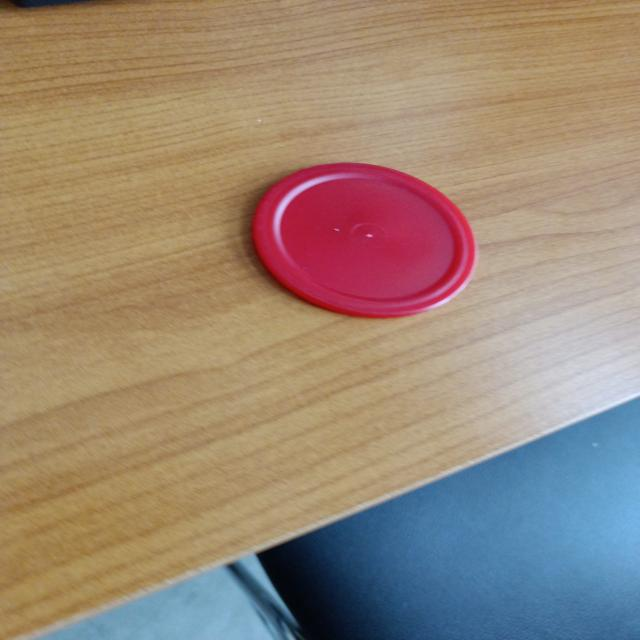chip: (249, 159, 476, 318)
